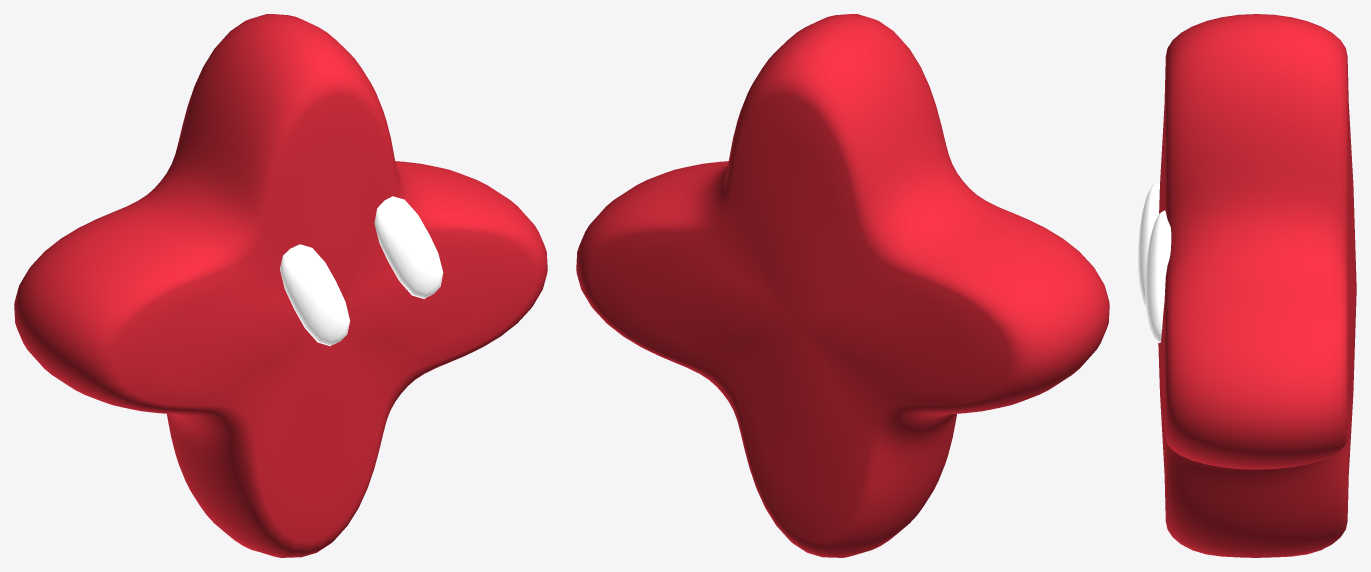
The model's file is ideas-sparring.glb.
The picture shows the model from 3 angles, left to right: view 1: azimuth 30°, elevation 25°; view 2: azimuth 150°, elevation 25°; view 3: azimuth 270°, elevation 25°; orthographic projection. The views are drawn at different scales.
Visible parts, largest first — view 1: body, eye_L, eye_R; view 2: body; view 3: body, eye_R, eye_L.
Part boxes in pixels (x1,y1,x2,y2): body: (14,14,547,557); eye_L: (280,244,349,345); eye_R: (374,196,443,298); body: (576,14,1109,557); body: (1158,14,1356,557); eye_R: (1145,210,1171,342); eye_L: (1138,183,1159,308).
Bounding box in the file's own units: 0.8 × 0.7807 × 0.2883.
